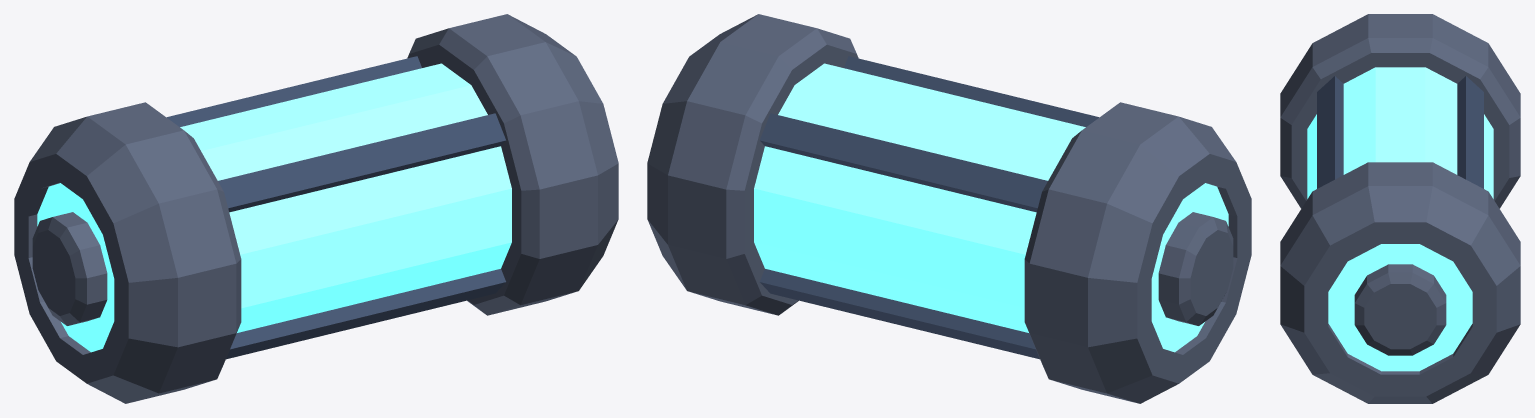
The model's file is energy-cell-1ee279.glb.
The picture shows the model from 3 angles, left to right: view 1: azimuth 30°, elevation 25°; view 2: azimuth 150°, elevation 25°; view 3: azimuth 270°, elevation 25°; orthographic projection. The views are drawn at different scales.
Visible parts, largest first — view 1: cell-metal, cell-glow; view 2: cell-metal, cell-glow; view 3: cell-metal, cell-glow.
Boxes of the visible parts, bbox=[...] form: cell-metal: bbox=[14, 14, 618, 403]; cell-glow: bbox=[37, 63, 511, 352]; cell-metal: bbox=[647, 14, 1251, 403]; cell-glow: bbox=[754, 63, 1228, 352]; cell-metal: bbox=[1280, 14, 1520, 403]; cell-glow: bbox=[1307, 67, 1493, 371].
Bounding box in the file's own units: 0.18 × 0.085 × 0.085.
